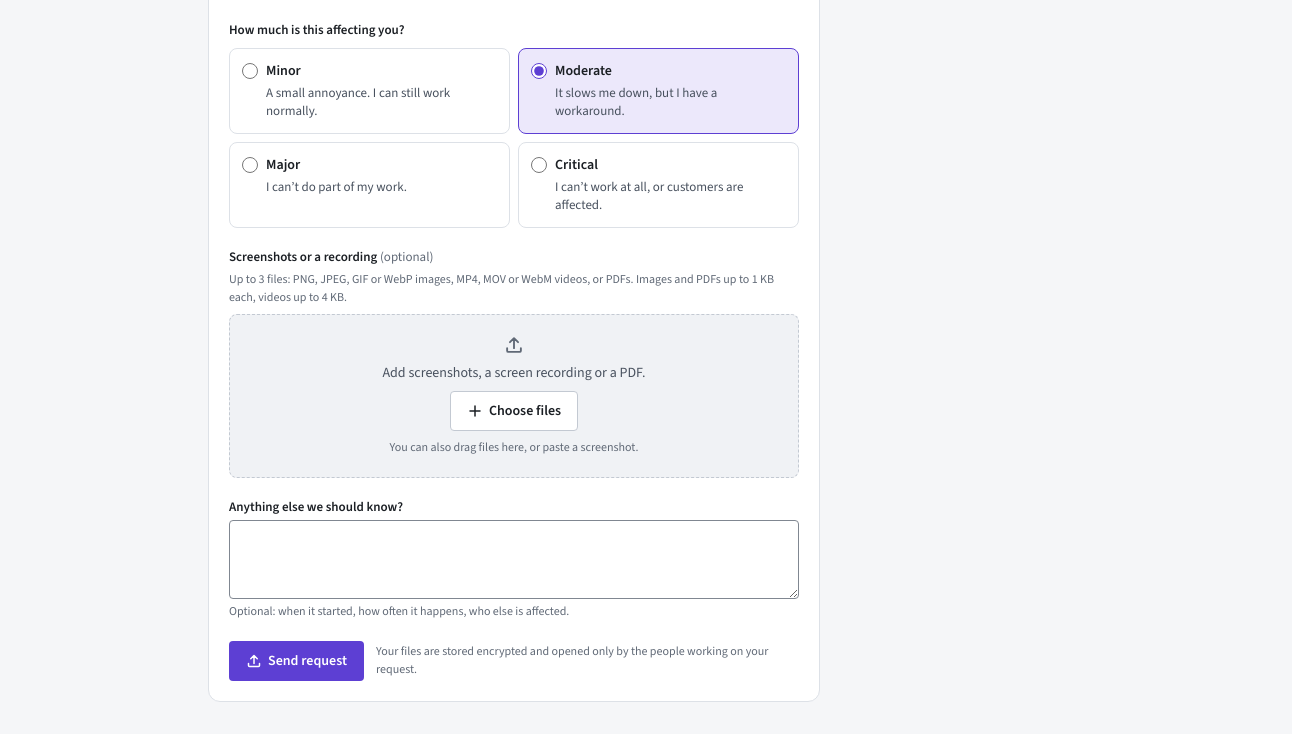
new request › lists every problem in a summary before anything is sent
This screenshot has width=1292, height=734.
Later steps or results of the test are not shown.
(page scrolled)
Click the button "Send request": point(296, 661) [229,641,364,681]
(page scrolled)
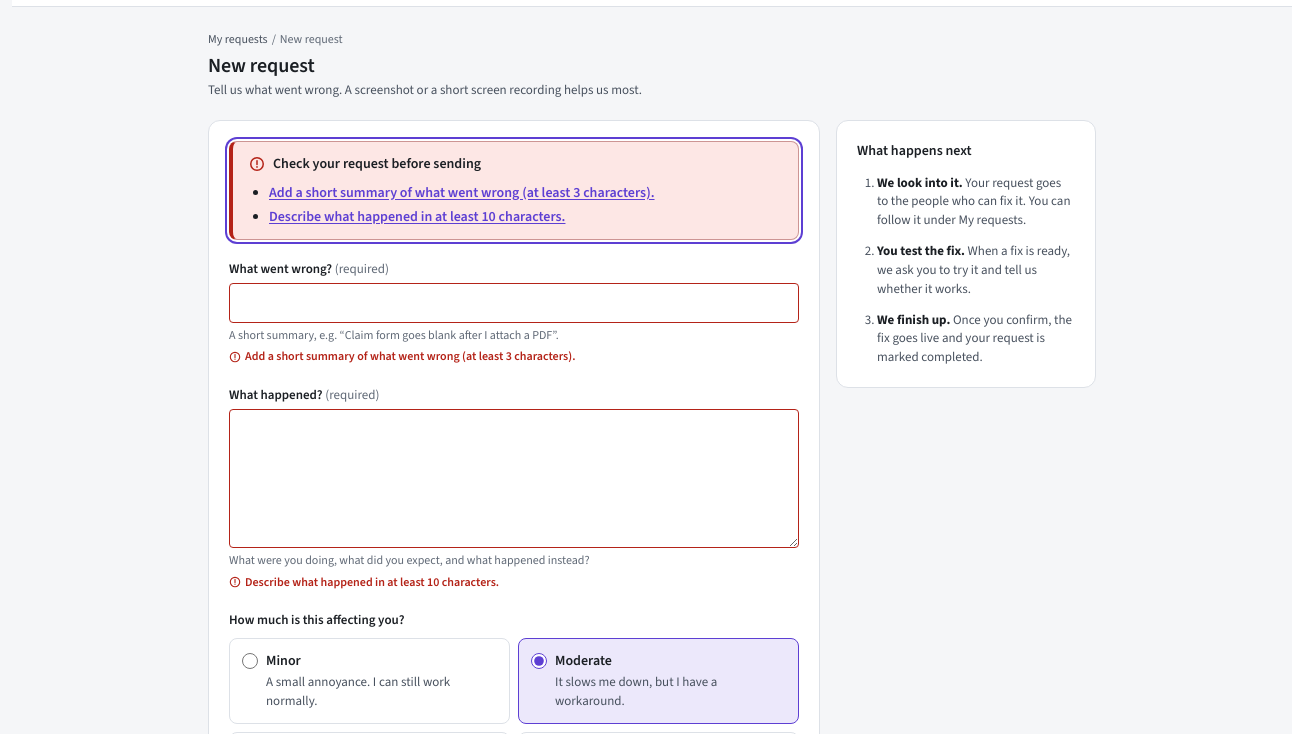
Result: the message shows "Check your request before sending" at [273,154,481,173]
Result: the message shows "Add a short summary of what went wrong (at least 3 characters)." at [269,182,654,203]
Result: the message shows "Describe what happened in at least 10 characters." at [269,207,566,227]
